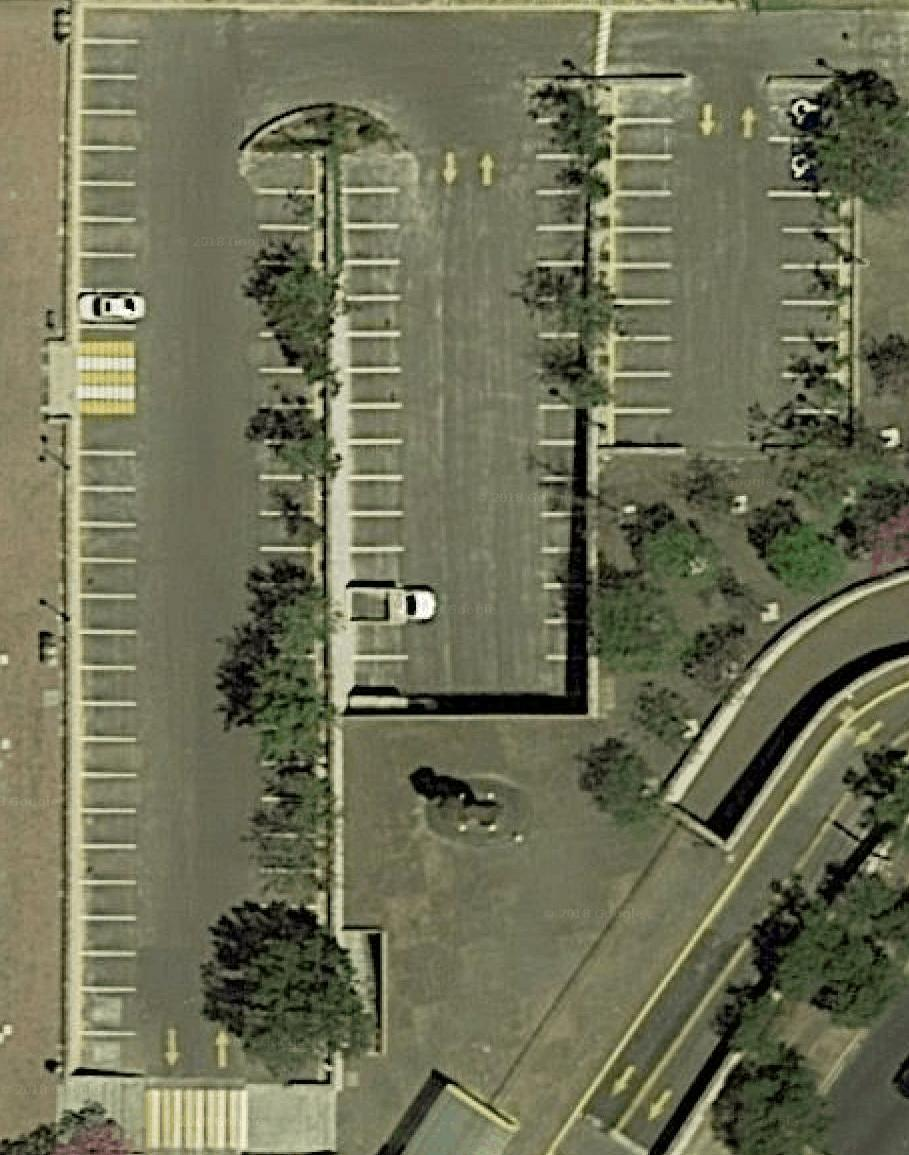parkingspot: (140, 7, 908, 1085), (337, 150, 435, 706), (76, 411, 141, 1076), (250, 303, 329, 638), (70, 2, 146, 341), (608, 84, 675, 452), (248, 150, 319, 308), (256, 753, 320, 913)
